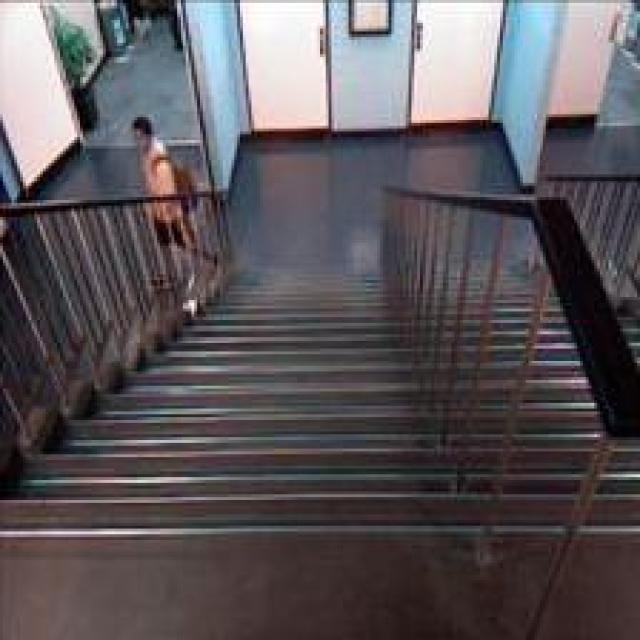Stairs: (83, 189, 636, 567)
